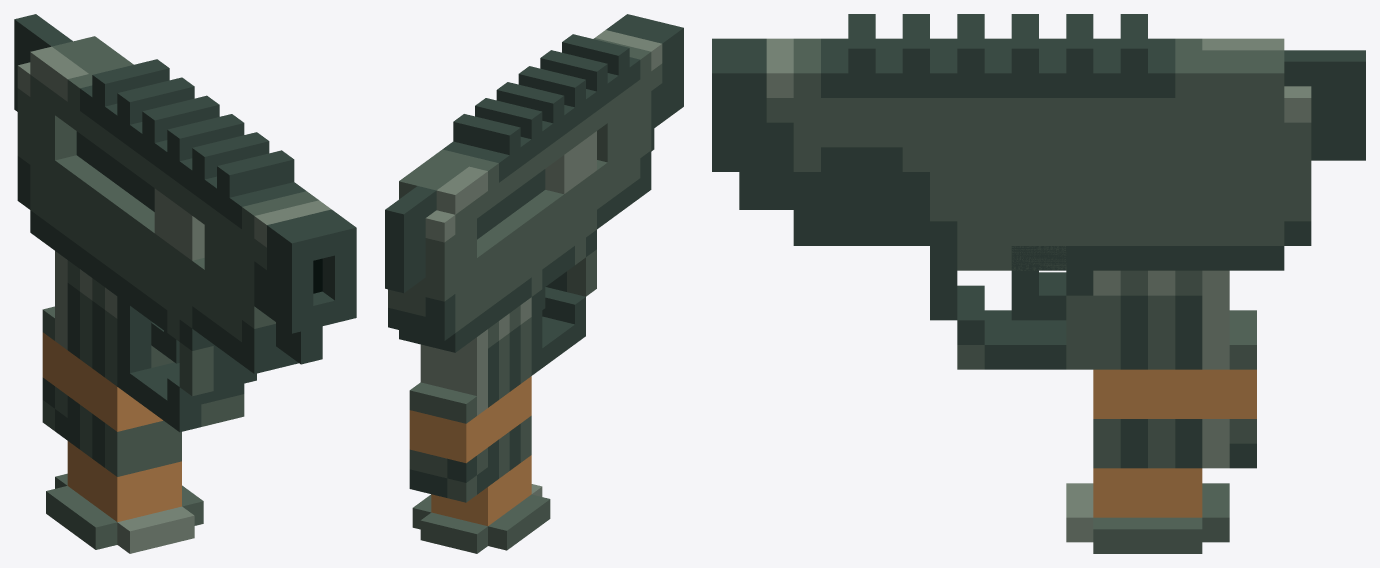
Rendered from Gun_A.fbx.
The picture shows the model from 3 angles, left to right: view 1: azimuth 30°, elevation 25°; view 2: azimuth 150°, elevation 25°; view 3: azimuth 270°, elevation 25°; orthographic projection. The views are drawn at different scales.
Visible parts, largest first — view 1: Gun_A; view 2: Gun_A; view 3: Gun_A.
Boxes of the visible parts, x1,y1,x2,y2 form: Gun_A: (14,14,356,553); Gun_A: (385,14,683,553); Gun_A: (712,14,1365,553).
Size of the model in its own units: 6.25 by 25 by 30.
1 material, 1 textured.
